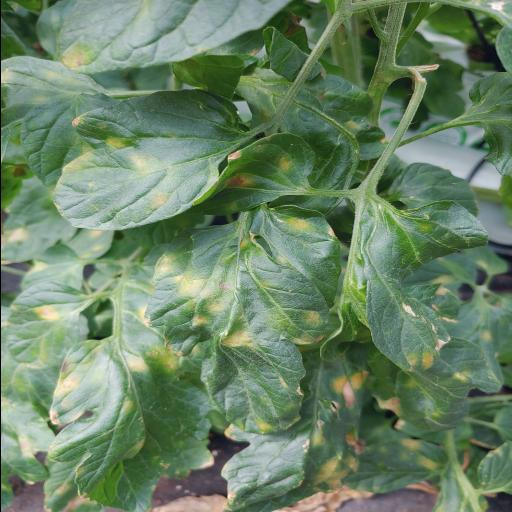Leaf Mold: (142, 205, 342, 435), (51, 241, 215, 512), (52, 89, 250, 231), (360, 200, 488, 372), (5, 280, 87, 370)
